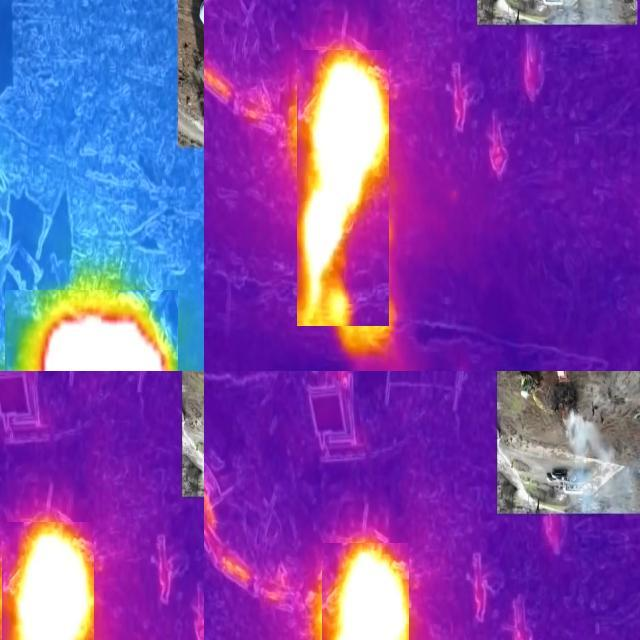fire: (297, 50, 389, 326), (5, 290, 178, 372), (2, 522, 94, 640), (322, 542, 409, 640)
